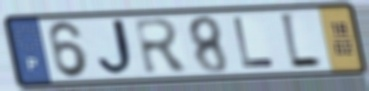6: (46, 19, 92, 81)
8: (186, 13, 230, 75)
J: (96, 17, 141, 79)
L: (277, 11, 325, 72), (231, 16, 277, 70)
R: (131, 16, 192, 77)
